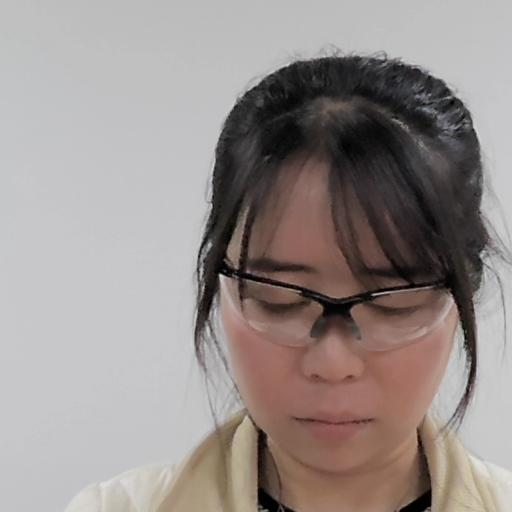glasses: (202, 58, 492, 474)
